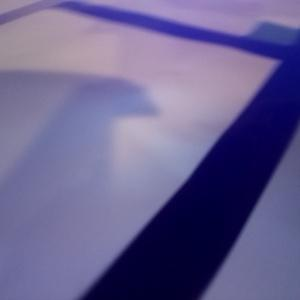top_right: (246, 21, 300, 47)
